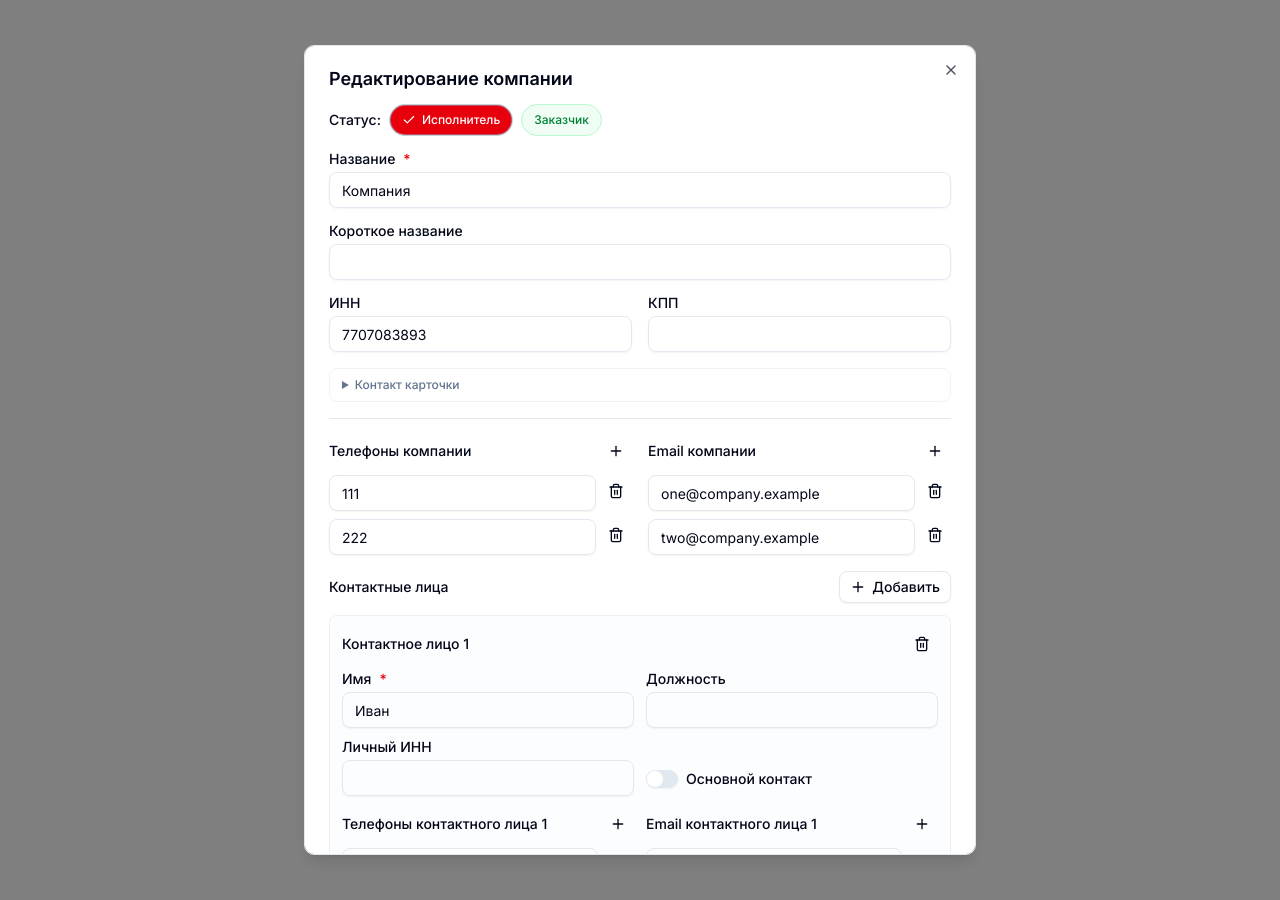
it: проверяет email уровня компании до PATCH
Replace the text in the field showing "two@company.example" with "invalid": (782, 537) [648, 519, 915, 555]
(page scrolled)
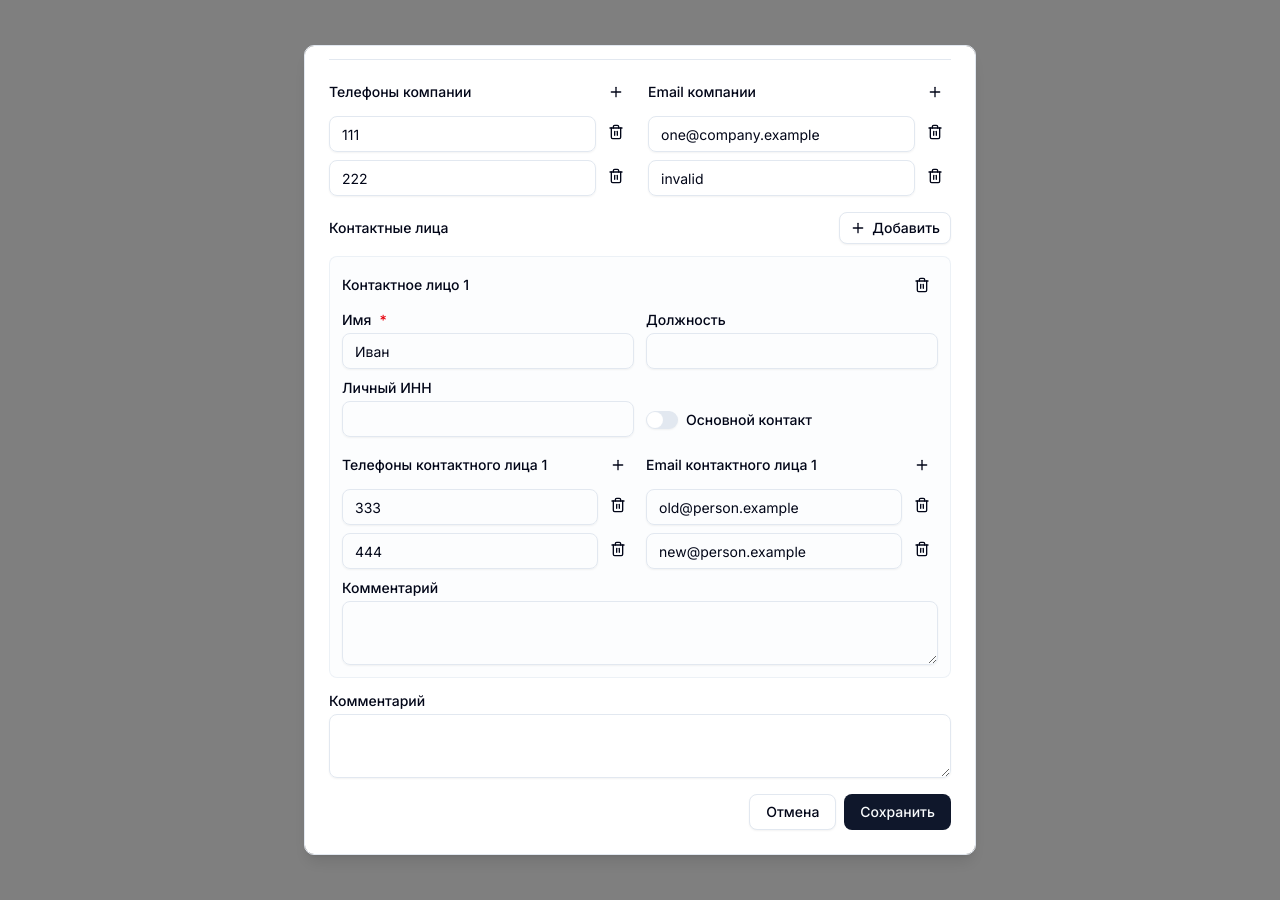
Click the button "Сохранить": (898, 812) [844, 794, 951, 830]
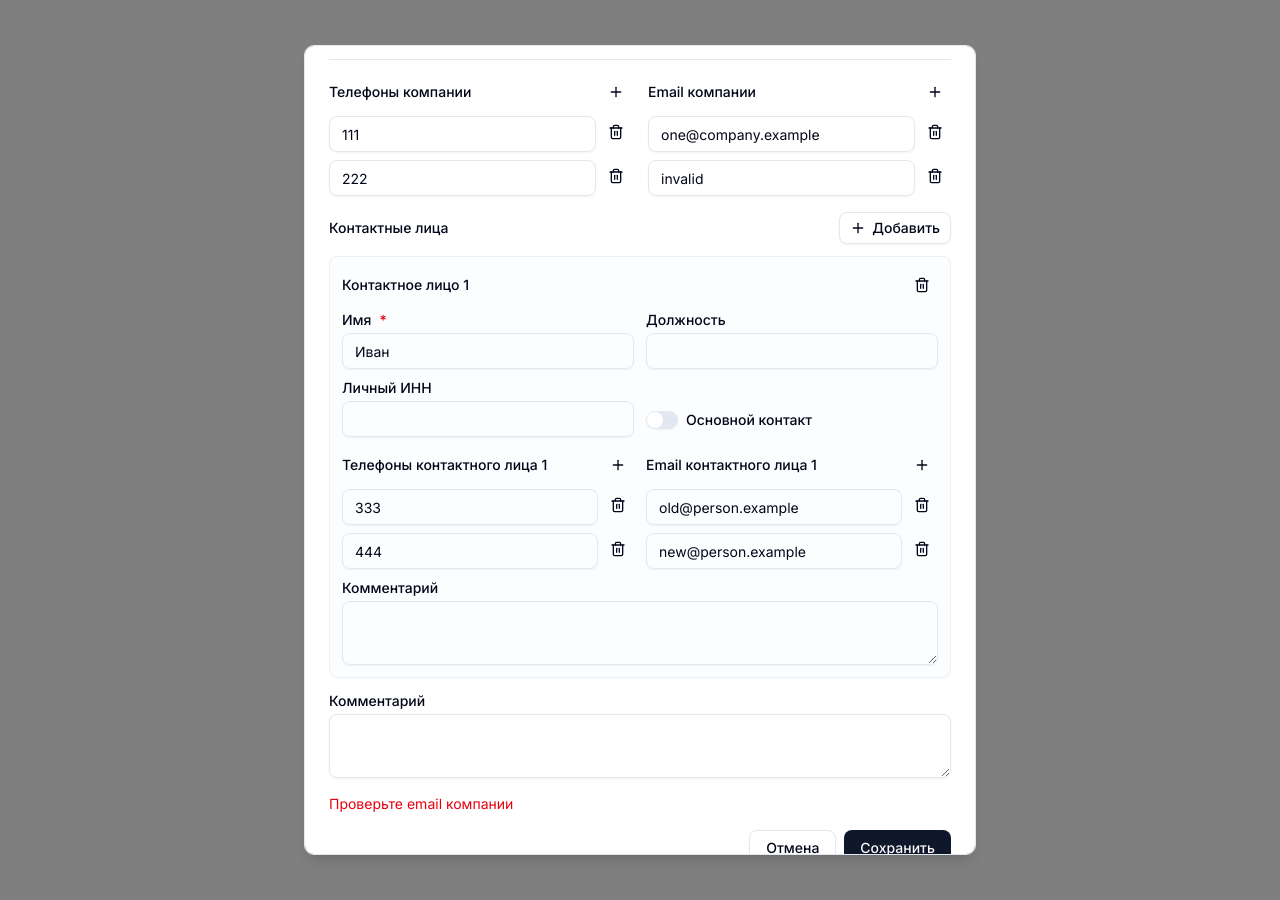
expect the text "Проверьте email компании" is shown: met, box [329, 795, 513, 812]
